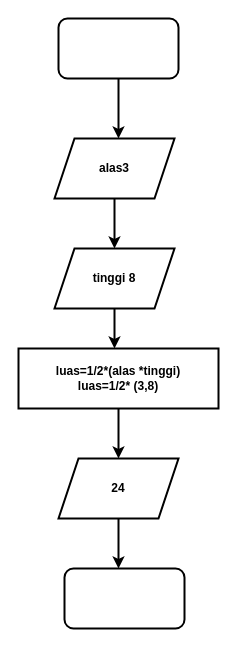
The diagram is 236 pixels wide and 646 high, and some of its shapes have lost their labels. The centre of each missing label's shape, as x and y in pixels:
"end" goes at point (124, 598).
"main" goes at point (118, 48).
